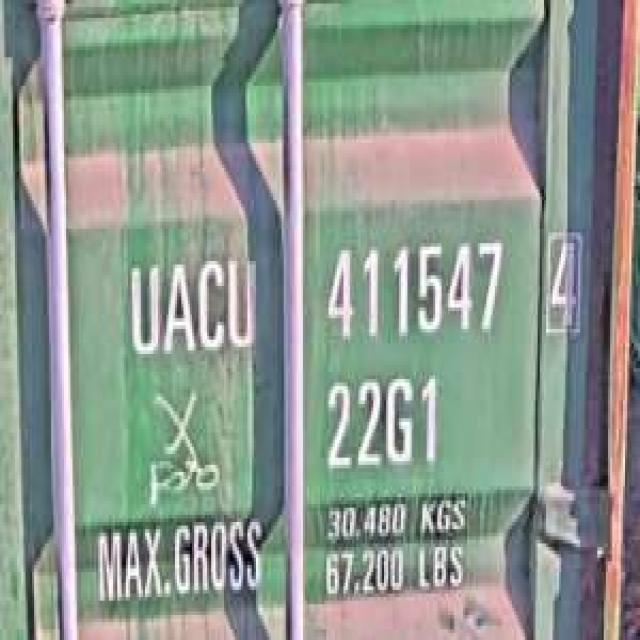dv: (540, 222, 586, 343)
owner: (122, 243, 260, 365)
serial: (318, 225, 505, 354)
size: (318, 364, 444, 482)
